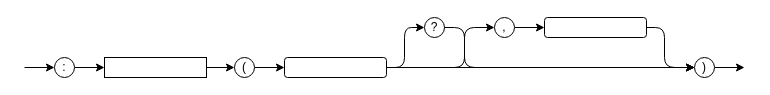
This 770x95 diagram has some shape labels left out. The shapes that lost their labels are listed below. From the top down, each one's box as (x1, y1, x2, y2) in pixels, then its label:
(544, 16, 646, 38): expression
(104, 56, 206, 78): cache
(284, 56, 386, 78): key template
